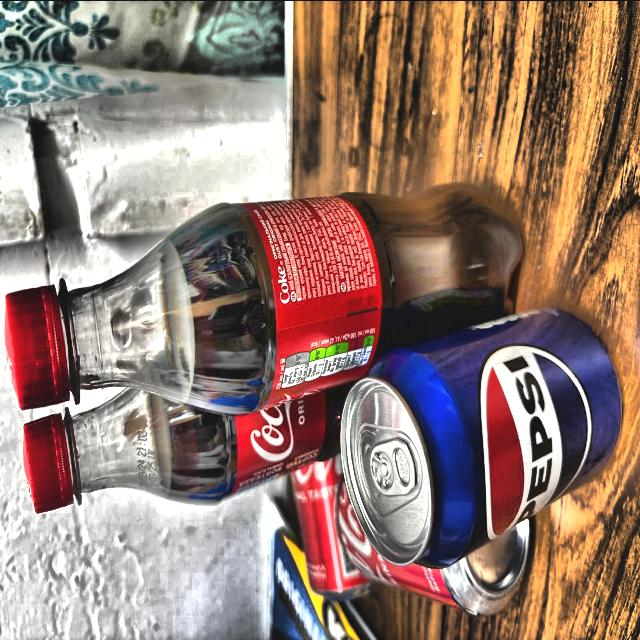coke-bottle: (0, 178, 526, 416), (14, 362, 358, 514)
coke-can: (346, 490, 536, 592), (302, 430, 366, 590)
pepsi-can: (338, 298, 620, 562)
